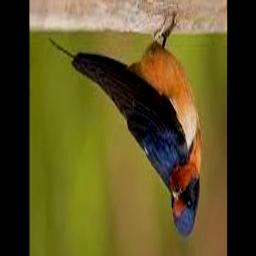Swallow: (49, 10, 203, 237)
